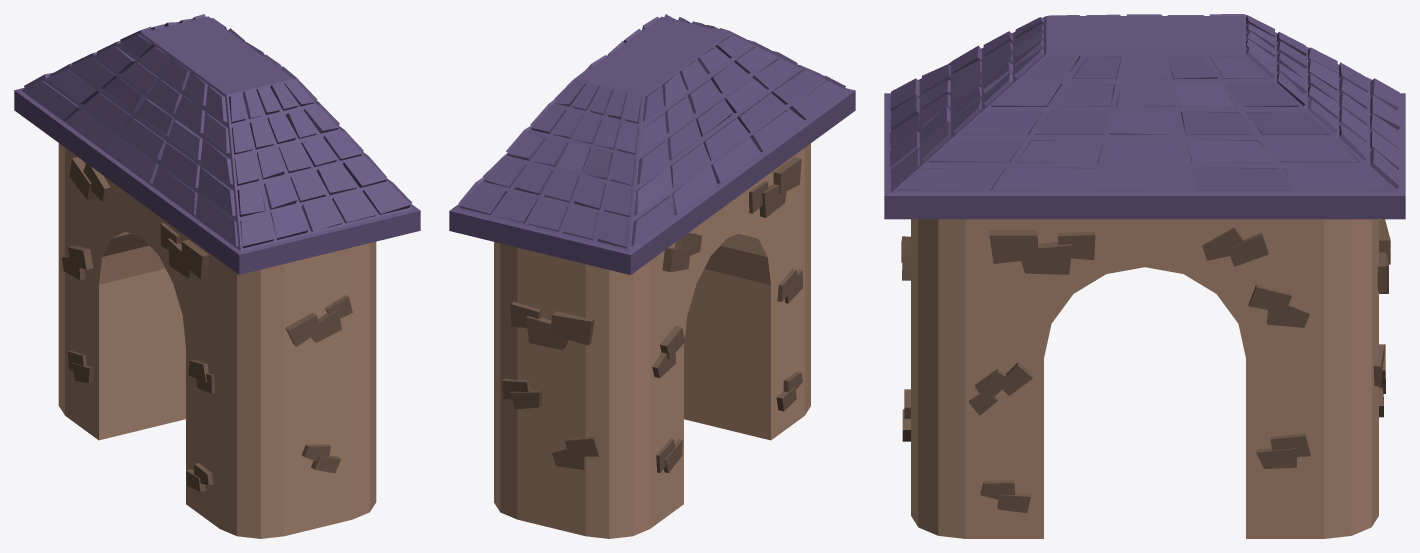
The model's file is Bogen.fbx.
The picture shows the model from 3 angles, left to right: view 1: azimuth 30°, elevation 25°; view 2: azimuth 150°, elevation 25°; view 3: azimuth 270°, elevation 25°; orthographic projection. The views are drawn at different scales.
Parts seen in each view (by area): view 1: Bogen; view 2: Bogen; view 3: Bogen.
Boxes of the visible parts, <box> form: Bogen: <box>14,14,420,538</box>; Bogen: <box>449,14,855,538</box>; Bogen: <box>884,14,1405,538</box>.
Bounding box in the file's own units: 889 × 1873 × 1909.
